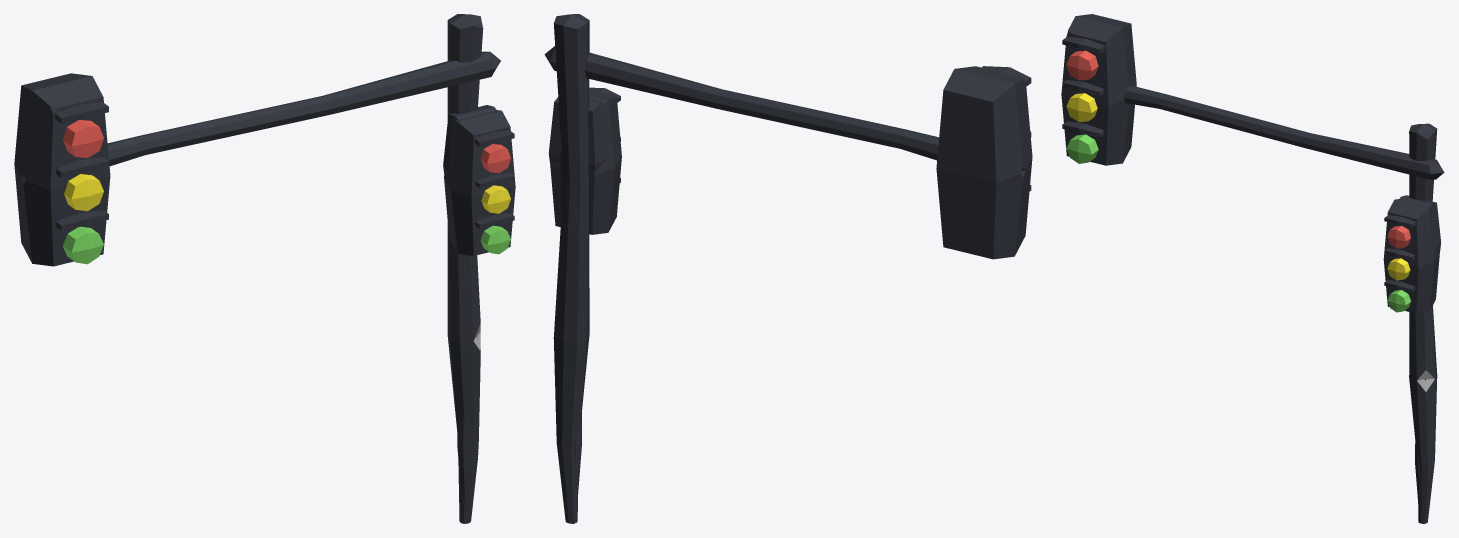
Rendered from Cenarios.fbx_Sinais.fbx.
3 renders of one model, left to right at view 1: azimuth 30°, elevation 25°; view 2: azimuth 150°, elevation 25°; view 3: azimuth 330°, elevation 25°, orthographic. The views are drawn at different scales.
Parts seen in each view (by area): view 1: Sinal L, Sinal Triplo, Sinal Duplo; view 2: Sinal L, Sinal Triplo, Sinal Duplo; view 3: Sinal L, Sinal Triplo, Sinal Duplo.
Part boxes in pixels (x1,y1,x2,y2): Sinal L: (14, 14, 500, 523); Sinal Triplo: (444, 110, 515, 513); Sinal Duplo: (443, 105, 496, 174); Sinal L: (544, 14, 1032, 523); Sinal Triplo: (550, 87, 621, 493); Sinal Duplo: (548, 97, 606, 219); Sinal L: (1061, 14, 1444, 523); Sinal Triplo: (1383, 199, 1439, 515); Sinal Duplo: (1399, 195, 1441, 256).
Size of the model in its own units: 370 by 400 by 64.21.
